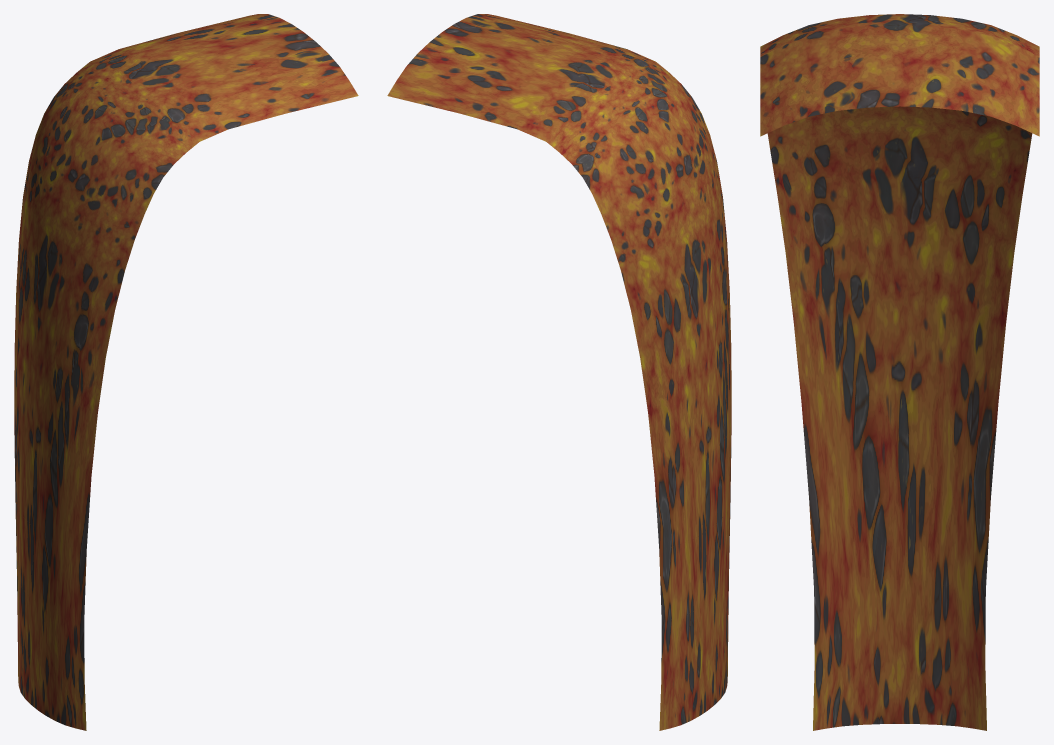
Rendered from WaterFallBig1.fbx.
The picture shows the model from 3 angles, left to right: view 1: azimuth 30°, elevation 25°; view 2: azimuth 150°, elevation 25°; view 3: azimuth 270°, elevation 25°; orthographic projection. The views are drawn at different scales.
Parts seen in each view (by area): view 1: WaterFallBig1; view 2: WaterFallBig1; view 3: WaterFallBig1.
Boxes of the visible parts, x1,y1,x2,y2 form: WaterFallBig1: (14,14,358,730); WaterFallBig1: (387,14,731,730); WaterFallBig1: (760,14,1039,730).
Bounding box in the file's own units: 18.6 × 40.78 × 13.21.
